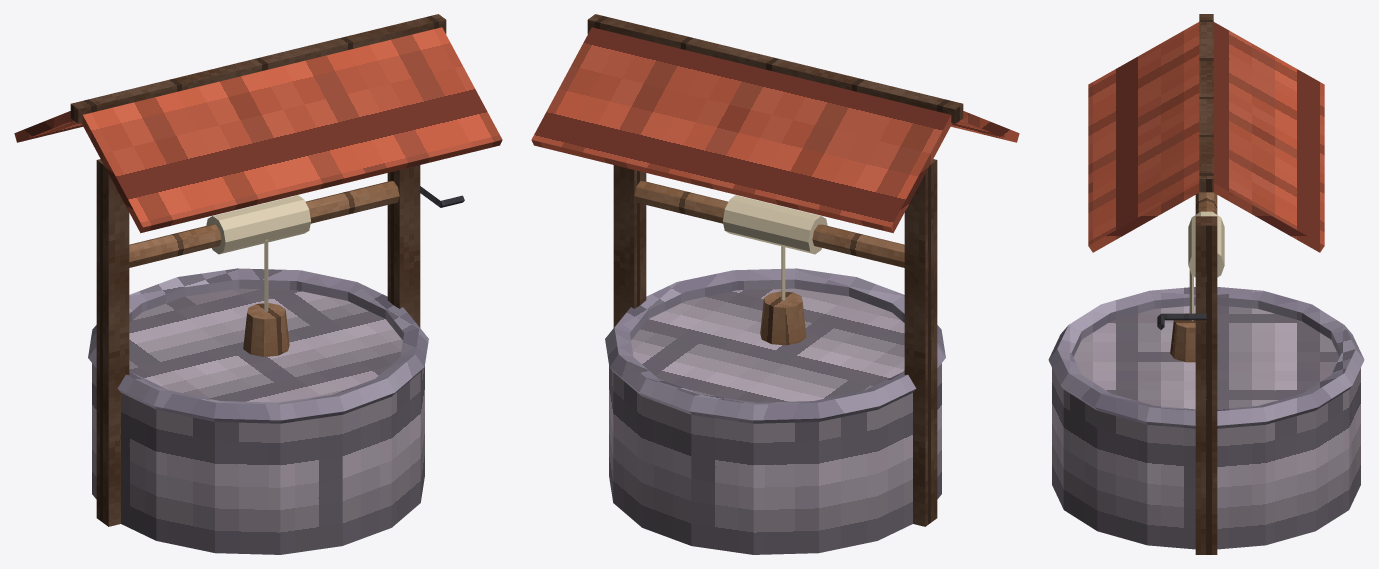
File: well.glb
3 renders of one model, left to right at view 1: azimuth 30°, elevation 25°; view 2: azimuth 150°, elevation 25°; view 3: azimuth 270°, elevation 25°, orthographic. The views are drawn at different scales.
Parts seen in each view (by area): view 1: body; view 2: body; view 3: body.
Boxes of the visible parts, box(x1,y1,x2,y2) form: body: box(14, 14, 502, 554); body: box(531, 14, 1019, 554); body: box(1048, 14, 1364, 554).
Size of the model in its own units: 2.15 by 2.36 by 1.74.
8 materials, 6 textured.
